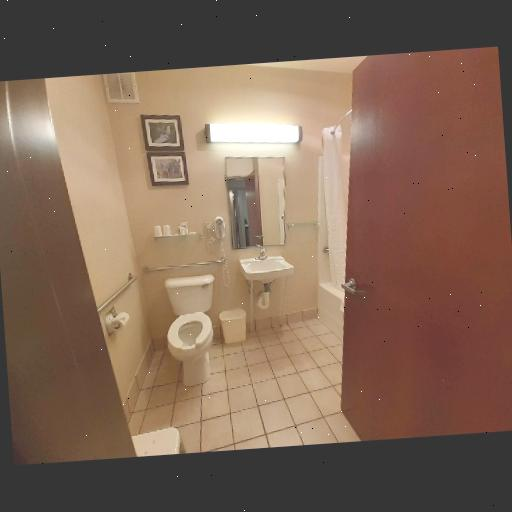clean mirror: (224, 149, 291, 249)
clean_floor: (132, 318, 358, 455)
clean_sink: (240, 240, 301, 285)
clean_toilet: (162, 272, 226, 388)
